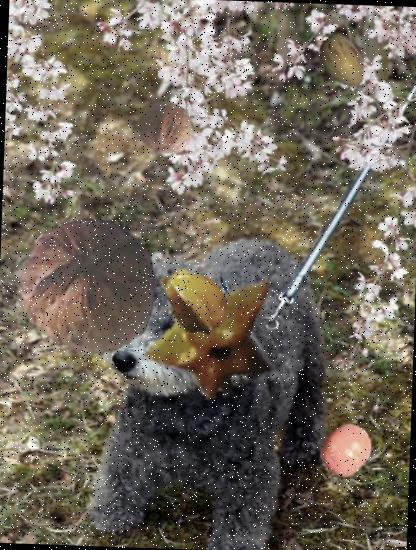Carambula: (138, 262, 284, 407), (156, 263, 235, 341)
Clementine: (318, 422, 374, 478)
Pepino: (314, 32, 374, 92)
Walnut: (17, 212, 164, 360), (138, 100, 195, 156)
